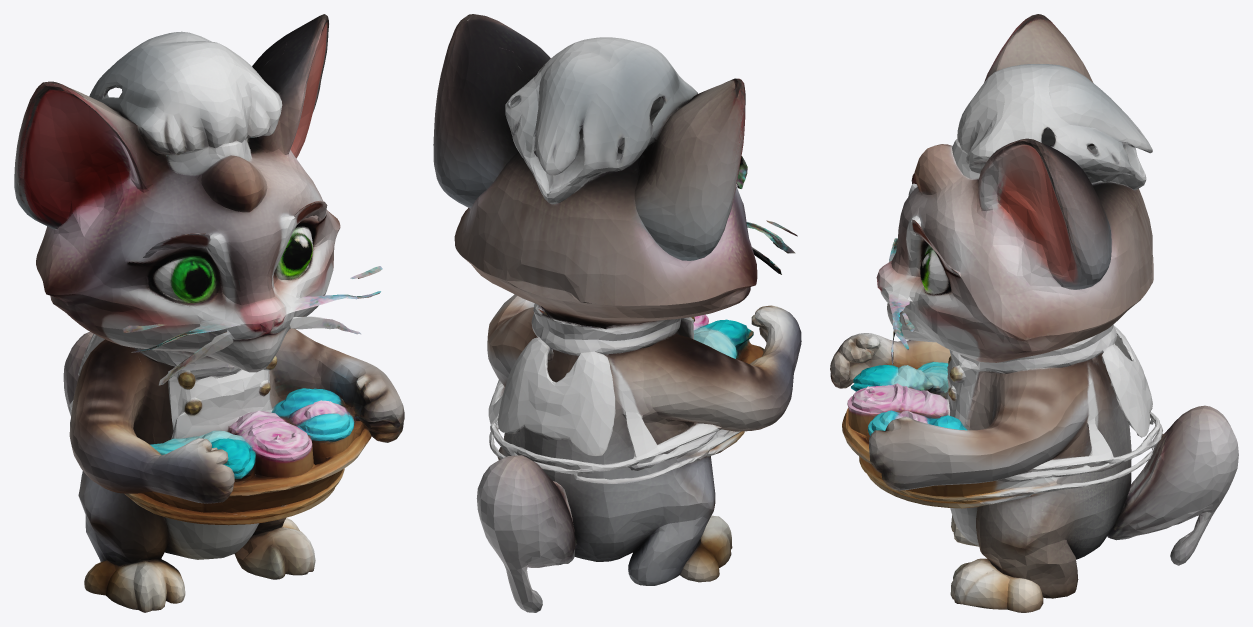
The model's file is Mascota.glb.
3 renders of one model, left to right at view 1: azimuth 30°, elevation 25°; view 2: azimuth 150°, elevation 25°; view 3: azimuth 270°, elevation 25°, orthographic. The views are drawn at different scales.
Parts seen in each view (by area): view 1: world; view 2: world; view 3: world.
Boxes of the visible parts, x1,y1,x2,y2 form: world: (14,14,404,612); world: (433,14,801,612); world: (830,14,1238,612).
Size of the model in its own units: 0.6099 by 0.9972 by 0.752.
1 material, 1 textured.
